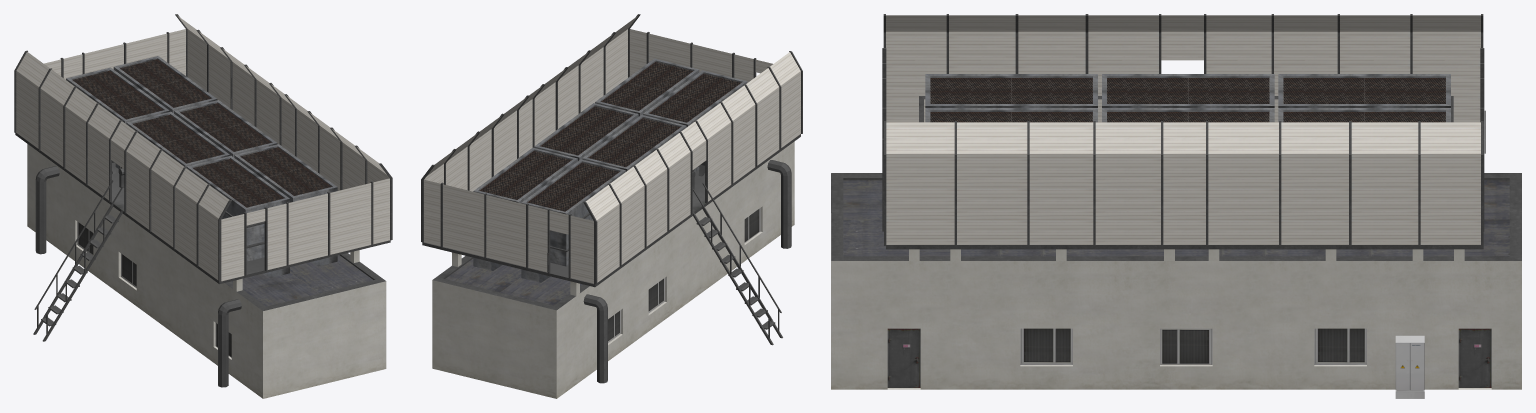
The model's file is plant-building16-1.glb.
3 renders of one model, left to right at view 1: azimuth 30°, elevation 25°; view 2: azimuth 150°, elevation 25°; view 3: azimuth 270°, elevation 25°, orthographic. The views are drawn at different scales.
Visible parts, largest first — view 1: Object001; view 2: Object001; view 3: Object001.
Boxes of the visible parts, x1=… form: Object001: x1=14, y1=14, x2=392, y2=398; Object001: x1=421, y1=14, x2=802, y2=398; Object001: x1=831, y1=14, x2=1521, y2=398.
Size of the model in its own units: 14.01 by 10.13 by 22.72.
1 material, 1 textured.
